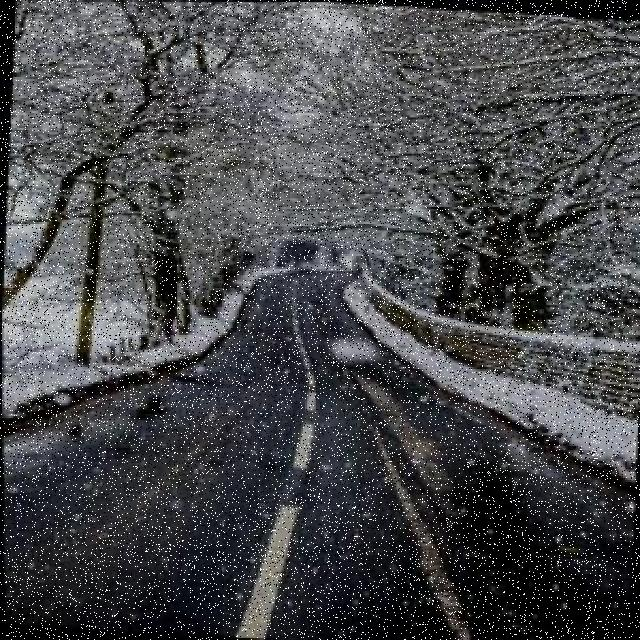clear-road: (3, 287, 626, 640)
